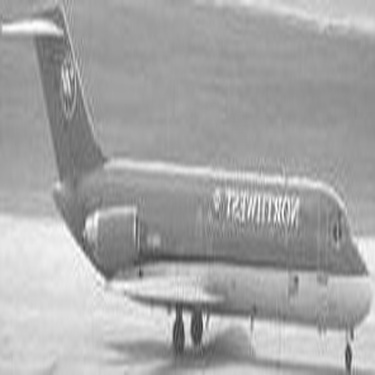airplane: (1, 4, 368, 373)
